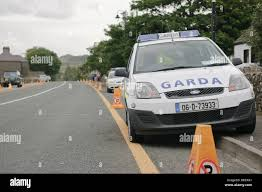car: (126, 27, 256, 143), (106, 66, 131, 93), (1, 71, 24, 88)
cone: (189, 124, 221, 175), (111, 90, 123, 107), (97, 81, 104, 92), (8, 84, 13, 91)
